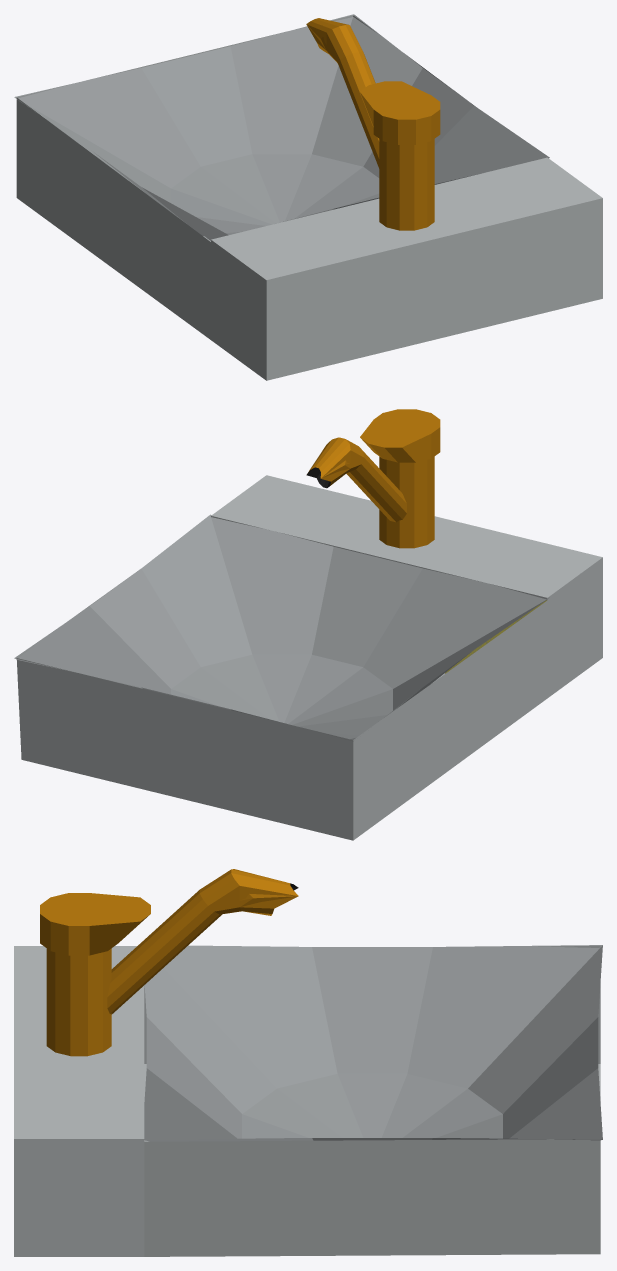
The model's file is sinktop.gltf.
The picture shows the model from 3 angles, top to bottom: view 1: azimuth 30°, elevation 25°; view 2: azimuth 150°, elevation 25°; view 3: azimuth 270°, elevation 25°; orthographic projection. The views are drawn at different scales.
Visible parts, largest first — view 1: cube (×2), sphere, cylinder (×3), invcylinder; view 2: cube (×2), sphere, cylinder (×3), invcylinder; view 3: sphere, cube (×2), cylinder (×3), invcylinder.
Boxes of the visible parts, x1,y1,x2,y2 form: cube (×2): (16, 15, 602, 380); sphere: (14, 14, 549, 240); cylinder (×3): (307, 19, 440, 230); invcylinder: (306, 18, 379, 167); cube (×2): (16, 475, 602, 840); sphere: (14, 514, 549, 741); cylinder (×3): (306, 409, 440, 548); invcylinder: (315, 439, 406, 522); sphere: (142, 945, 602, 1141); cube (×2): (14, 946, 600, 1256); cylinder (×3): (40, 869, 298, 1056); invcylinder: (107, 869, 297, 1014).
Bounding box in the file's own units: 0.442 × 0.3061 × 0.5647.
1 material, 1 textured.
